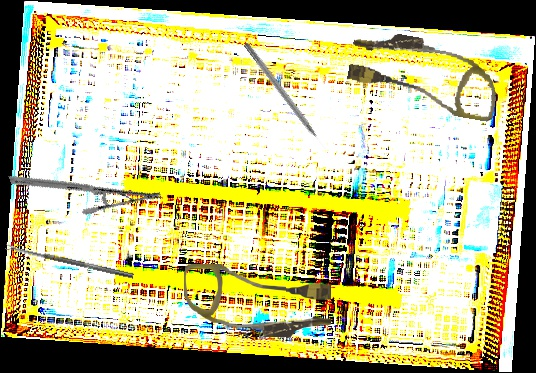Cannula: (343, 26, 505, 123), (183, 263, 332, 339)
Hook Surgical: (242, 41, 328, 153)
Needle Holder: (8, 124, 163, 252)
Surgical Spoon: (5, 243, 134, 279)
